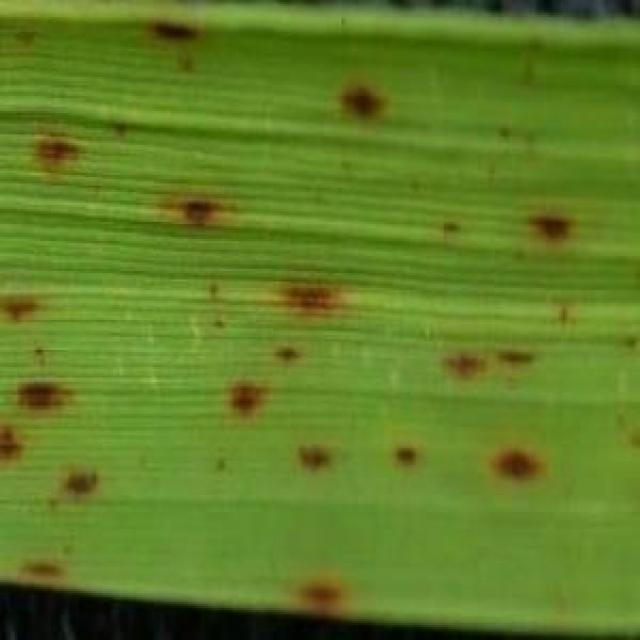Rice: (516, 202, 600, 262), (223, 357, 286, 427), (164, 175, 228, 240), (336, 74, 403, 135), (23, 120, 88, 177), (288, 568, 363, 615), (0, 282, 49, 343), (283, 275, 346, 320), (480, 447, 540, 493), (52, 458, 101, 504), (2, 381, 86, 407), (266, 326, 318, 368), (140, 9, 199, 46), (292, 436, 327, 480), (391, 431, 420, 476), (0, 422, 23, 464)
